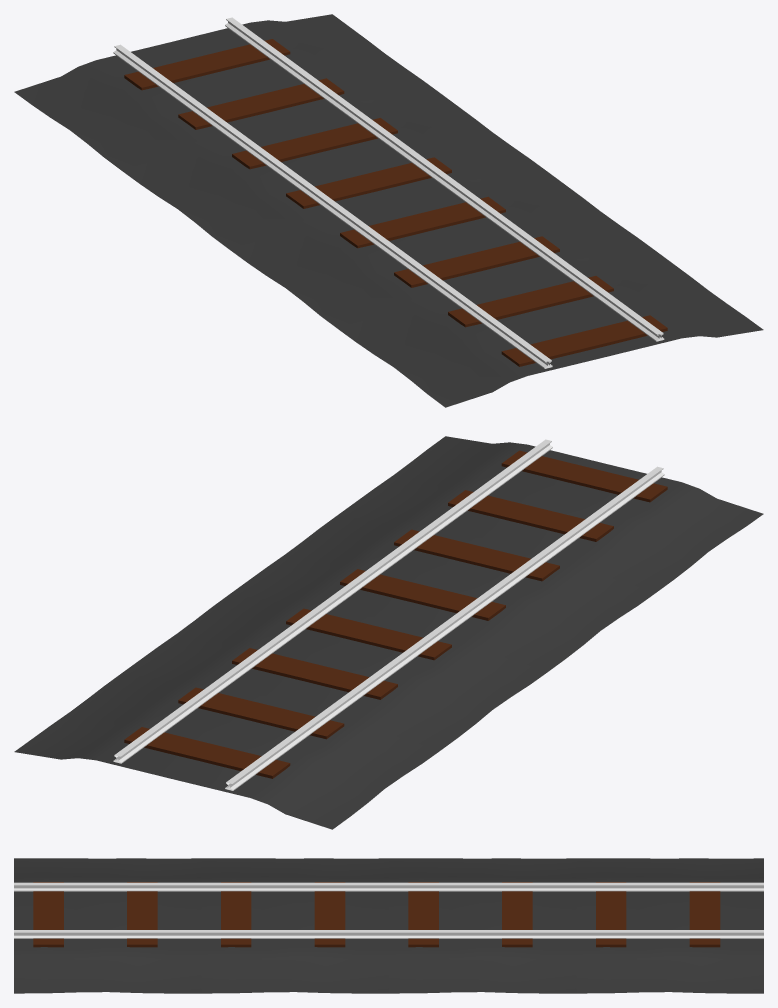
Rendered from rails.fbx.
3 views of the same model, one above another, from view 1: azimuth 30°, elevation 25°; view 2: azimuth 150°, elevation 25°; view 3: azimuth 270°, elevation 25° (orthographic). The views are drawn at different scales.
Visible parts, largest first — view 1: Plane; view 2: Plane; view 3: Plane.
Boxes of the visible parts, x1,y1,x2,y2 form: Plane: (14,14,763,407); Plane: (14,436,763,829); Plane: (14,858,763,993).
Size of the model in its own units: 340 by 21.75 by 799.
